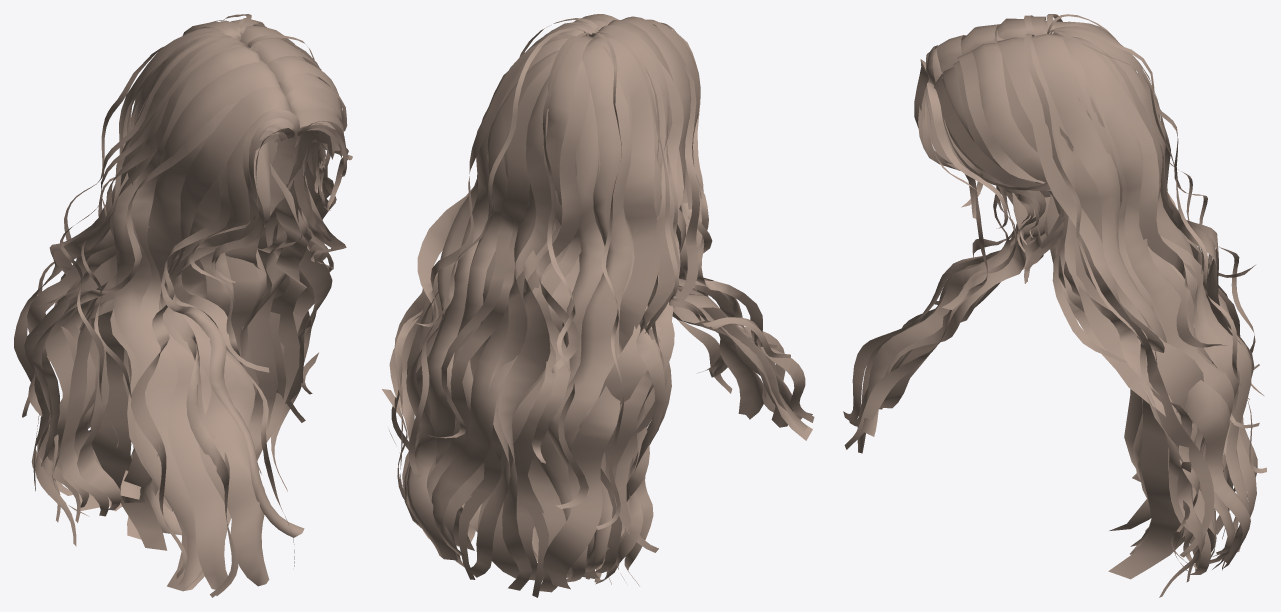
File: female_hair_06_lod0.glb
3 views of the same model, side by side, from view 1: azimuth 30°, elevation 25°; view 2: azimuth 150°, elevation 25°; view 3: azimuth 270°, elevation 25° (orthographic). The views are drawn at different scales.
Parts seen in each view (by area): view 1: female-hair-06; view 2: female-hair-06; view 3: female-hair-06.
Part boxes in pixels (x1=…): female-hair-06: x1=14, y1=14, x2=352, y2=597; female-hair-06: x1=382, y1=14, x2=814, y2=597; female-hair-06: x1=843, y1=14, x2=1266, y2=597.
Size of the model in its own units: 0.3256 by 0.5221 by 0.3796.
